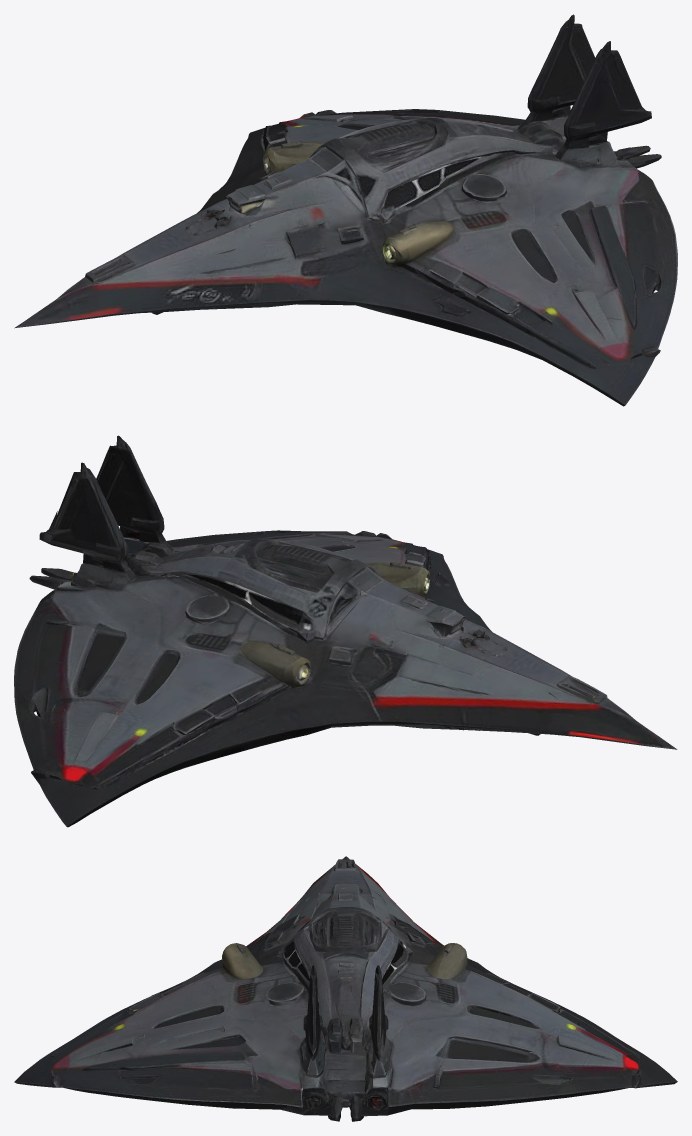
The model's file is enemy-mercury-fortress.glb.
3 renders of one model, top to bottom at view 1: azimuth 30°, elevation 25°; view 2: azimuth 150°, elevation 25°; view 3: azimuth 270°, elevation 25°, orthographic. The views are drawn at different scales.
Bounding box in the file's own units: 1.89 × 0.6108 × 1.9.
Materials: 1 (1 with a texture image).
